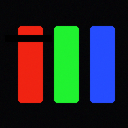3 line_h: (5, 35, 51, 41)
